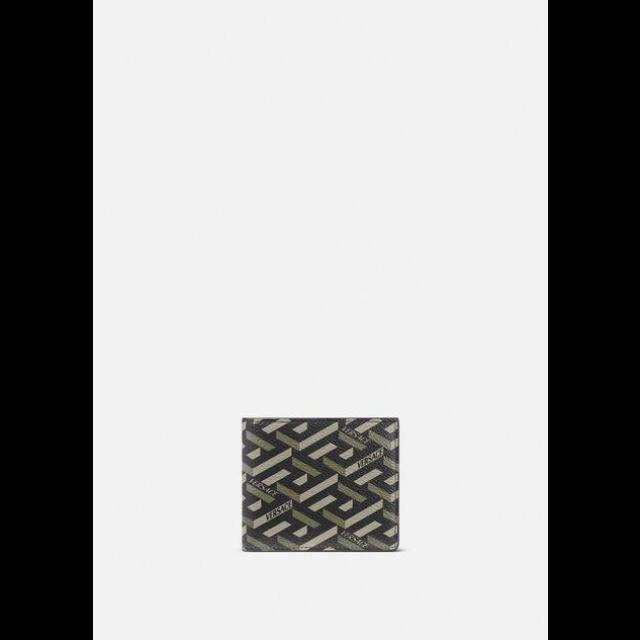wallet: (236, 413, 404, 559)
